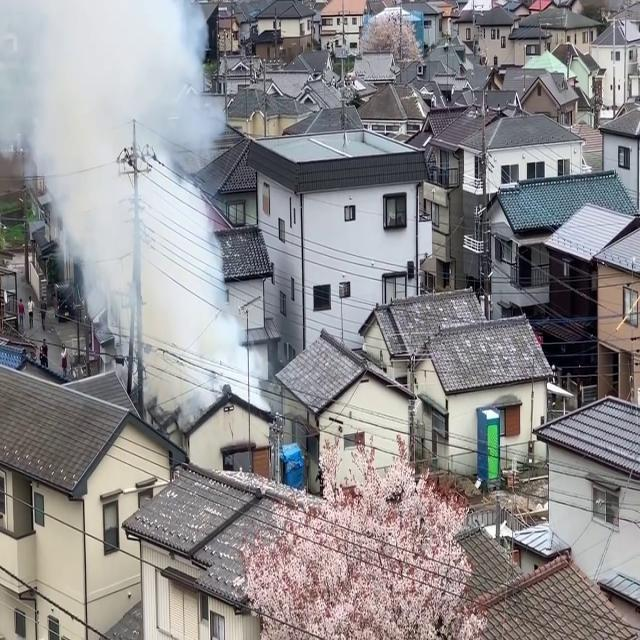Smoke: (4, 0, 261, 418)
